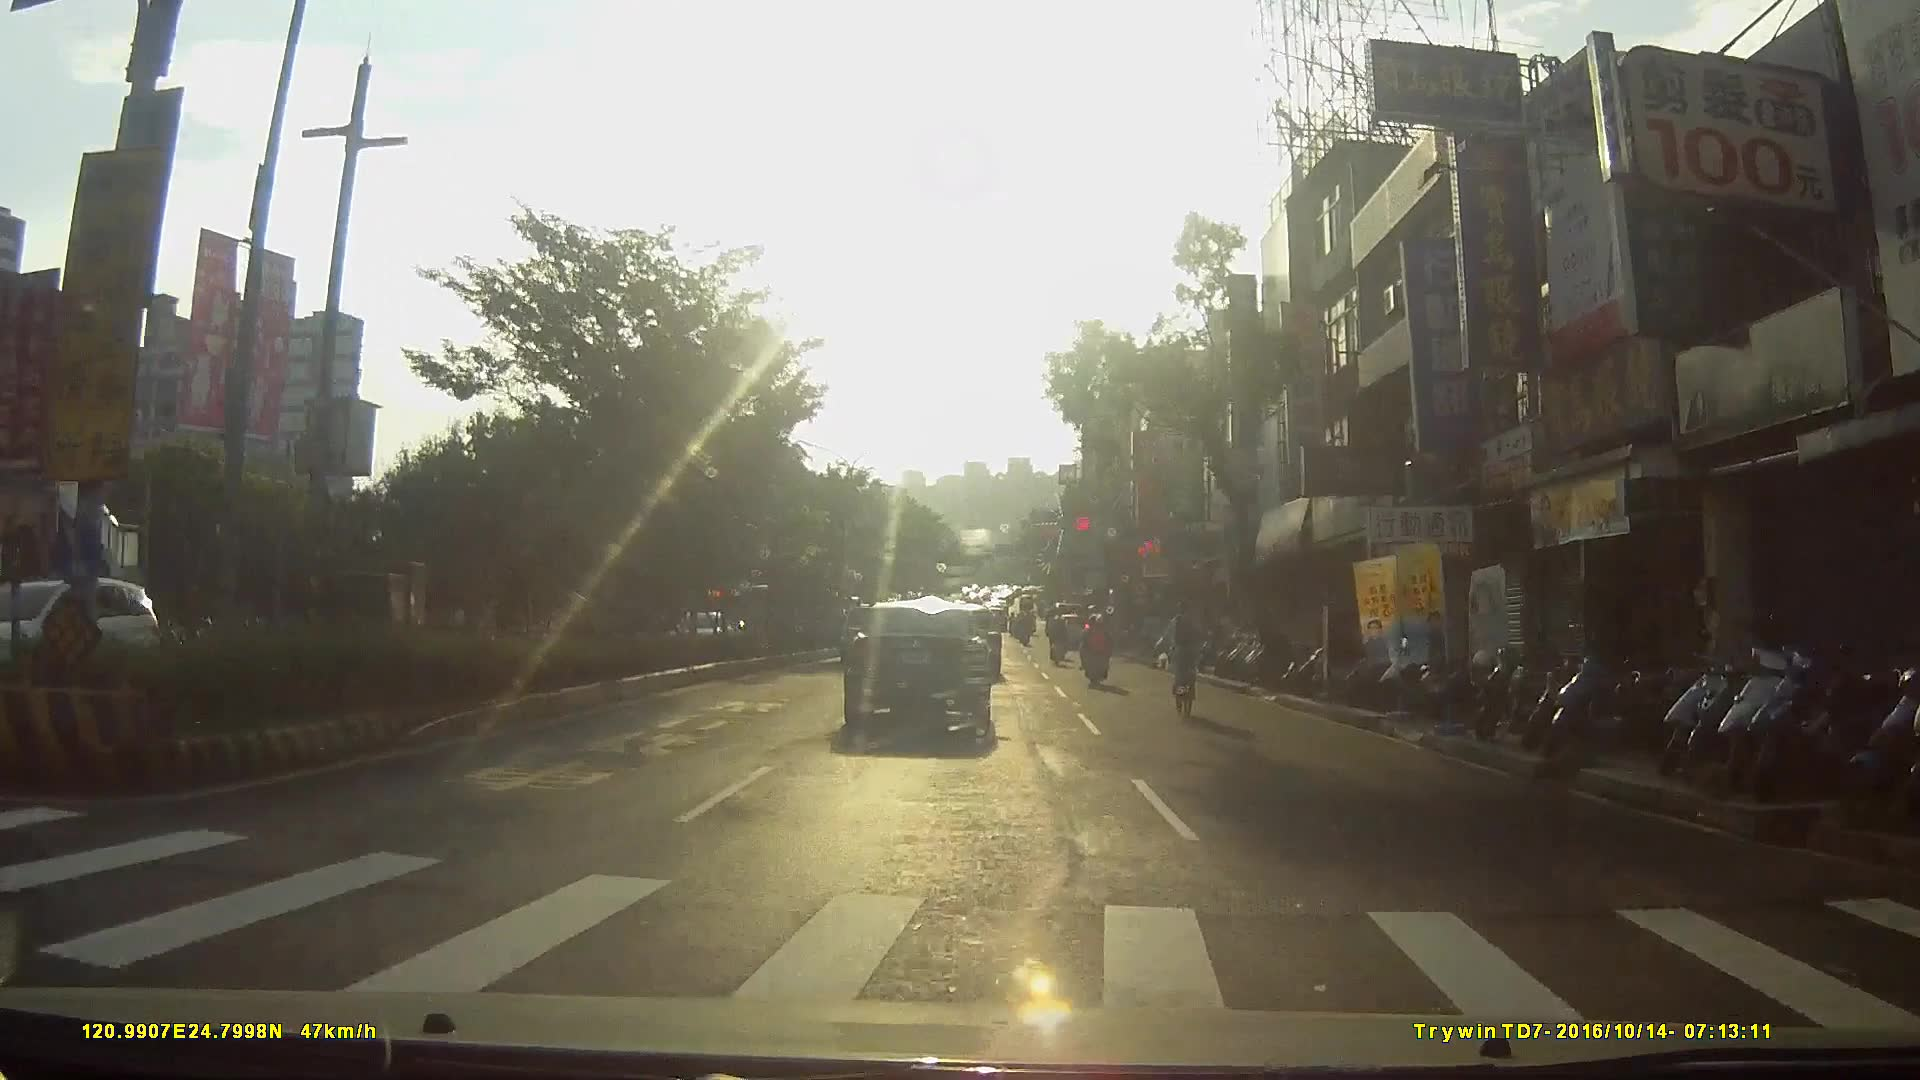rider: (1158, 592, 1214, 716), (1081, 612, 1115, 688), (1046, 614, 1070, 666)
vehicle: (842, 606, 1005, 751), (1, 577, 164, 712)
